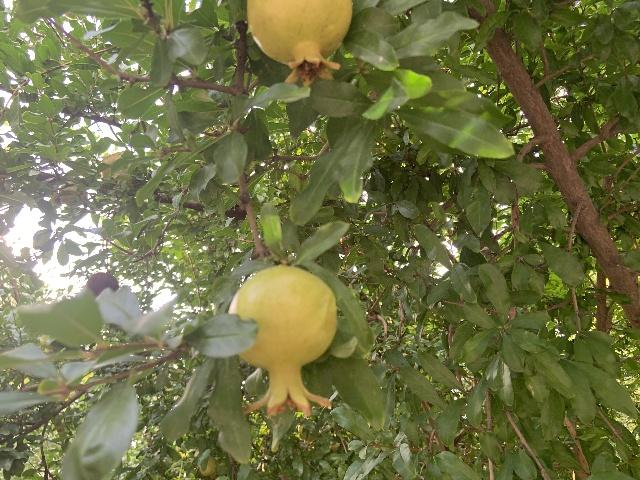mid-growth: (228, 266, 338, 417), (245, 0, 352, 88), (48, 180, 88, 208), (100, 151, 130, 186)
